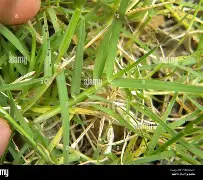weed: (0, 0, 202, 164)
